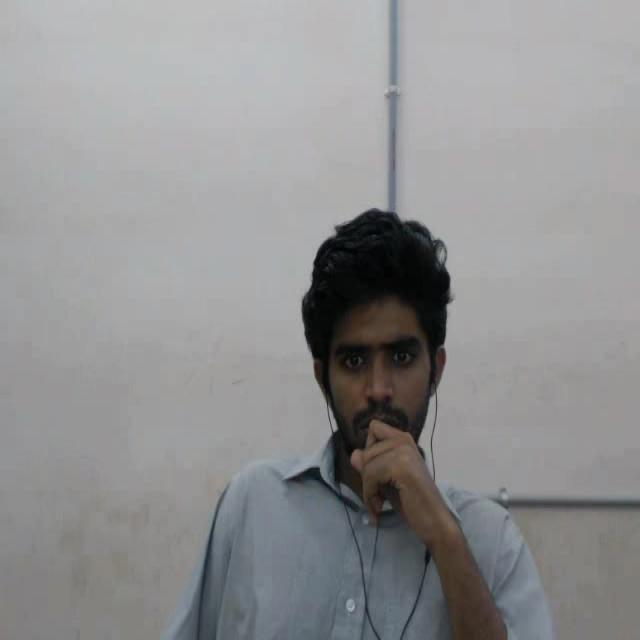Bored: (279, 189, 486, 516)
